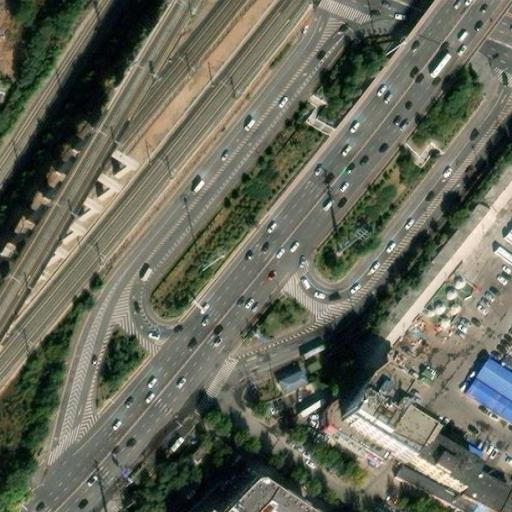building: (348, 212, 490, 376), (391, 421, 496, 504), (330, 368, 410, 453), (319, 402, 390, 467), (464, 376, 512, 421), (477, 162, 512, 218), (474, 356, 512, 400), (215, 488, 259, 512), (276, 363, 309, 392), (247, 500, 280, 512)
